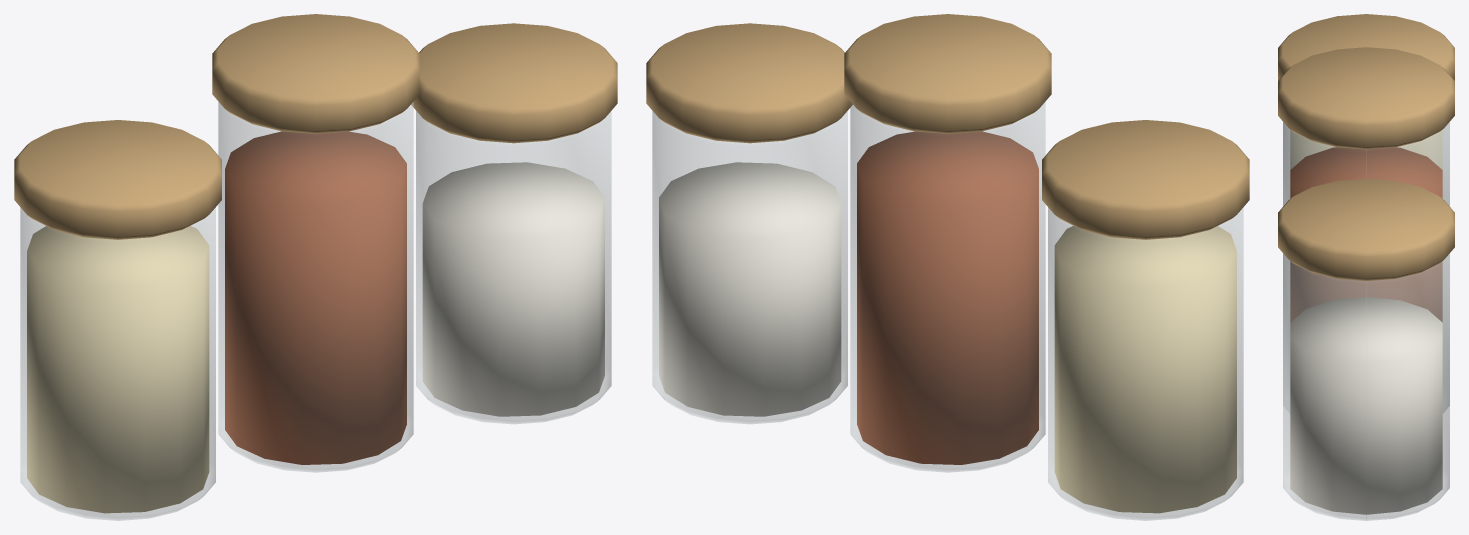
The model's file is i_jars_0.glb.
The picture shows the model from 3 angles, left to right: view 1: azimuth 30°, elevation 25°; view 2: azimuth 150°, elevation 25°; view 3: azimuth 270°, elevation 25°; orthographic projection. The views are drawn at different scales.
Visible parts, largest first — view 1: o.004, o.003, o.007, o.001, o, o.006, o.005, o.002, o.008; view 2: o.004, o.003, o.007, o.001, o, o.006, o.005, o.002, o.008; view 3: o.007, o.006, o.005, o.008, o.004, o.003, o.002, o, o.001.
Part boxes in pixels (<box>): o.004: <box>218,102,413,472</box>; o.003: <box>225,131,406,464</box>; o.007: <box>416,111,611,424</box>; o.001: <box>20,207,215,520</box>; o: <box>27,226,209,513</box>; o.006: <box>422,162,604,416</box>; o.005: <box>212,14,419,133</box>; o.002: <box>14,120,221,239</box>; o.008: <box>411,23,617,143</box>; o.004: <box>850,102,1045,472</box>; o.003: <box>857,131,1038,464</box>; o.007: <box>652,111,847,424</box>; o.001: <box>1048,207,1243,520</box>; o: <box>1054,226,1236,513</box>; o.006: <box>659,162,841,416</box>; o.005: <box>844,14,1051,133</box>; o.002: <box>1042,120,1249,239</box>; o.008: <box>646,23,852,143</box>; o.007: <box>1283,253,1449,520</box>; o.006: <box>1290,297,1442,514</box>; o.005: <box>1278,47,1454,149</box>; o.008: <box>1278,178,1454,280</box>; o.004: <box>1283,122,1449,412</box>; o.003: <box>1290,147,1442,321</box>; o.002: <box>1278,14,1454,80</box>; o: <box>1290,130,1442,169</box>; o.001: <box>1283,122,1449,205</box>.
Bounding box in the file's own units: 0.336 × 0.21 × 0.1044.
